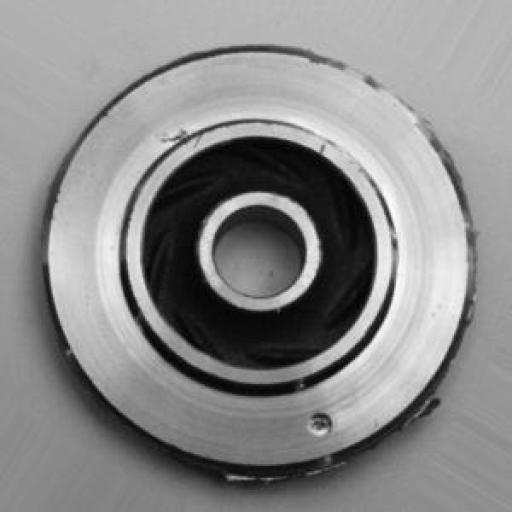defect: (28, 29, 486, 484)
